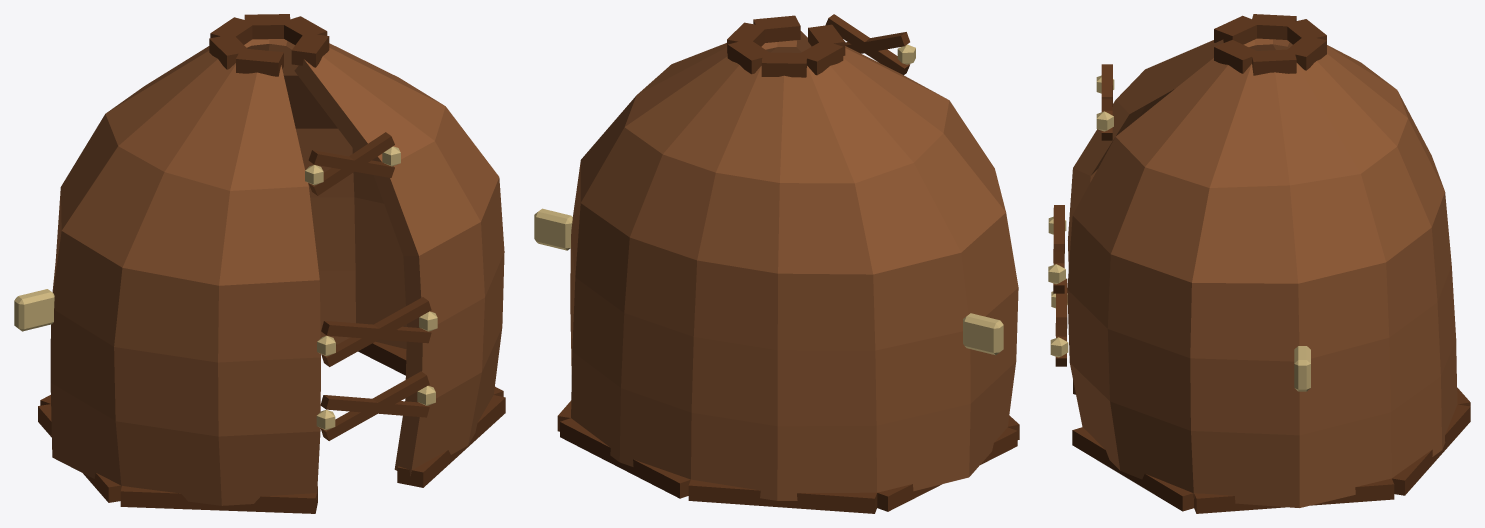
Rendered from gear_vest_leather_v01.glb.
3 views of the same model, side by side, from view 1: azimuth 30°, elevation 25°; view 2: azimuth 150°, elevation 25°; view 3: azimuth 270°, elevation 25° (orthographic). The views are drawn at different scales.
Parts seen in each view (by area): view 1: vest_leather; view 2: vest_leather; view 3: vest_leather.
Part boxes in pixels (left/top/right/bottom): vest_leather: left=14, top=14, right=505, bottom=513; vest_leather: left=534, top=14, right=1019, bottom=513; vest_leather: left=1048, top=14, right=1470, bottom=513.
Size of the model in its own units: 0.3811 by 0.3014 by 0.3022.
